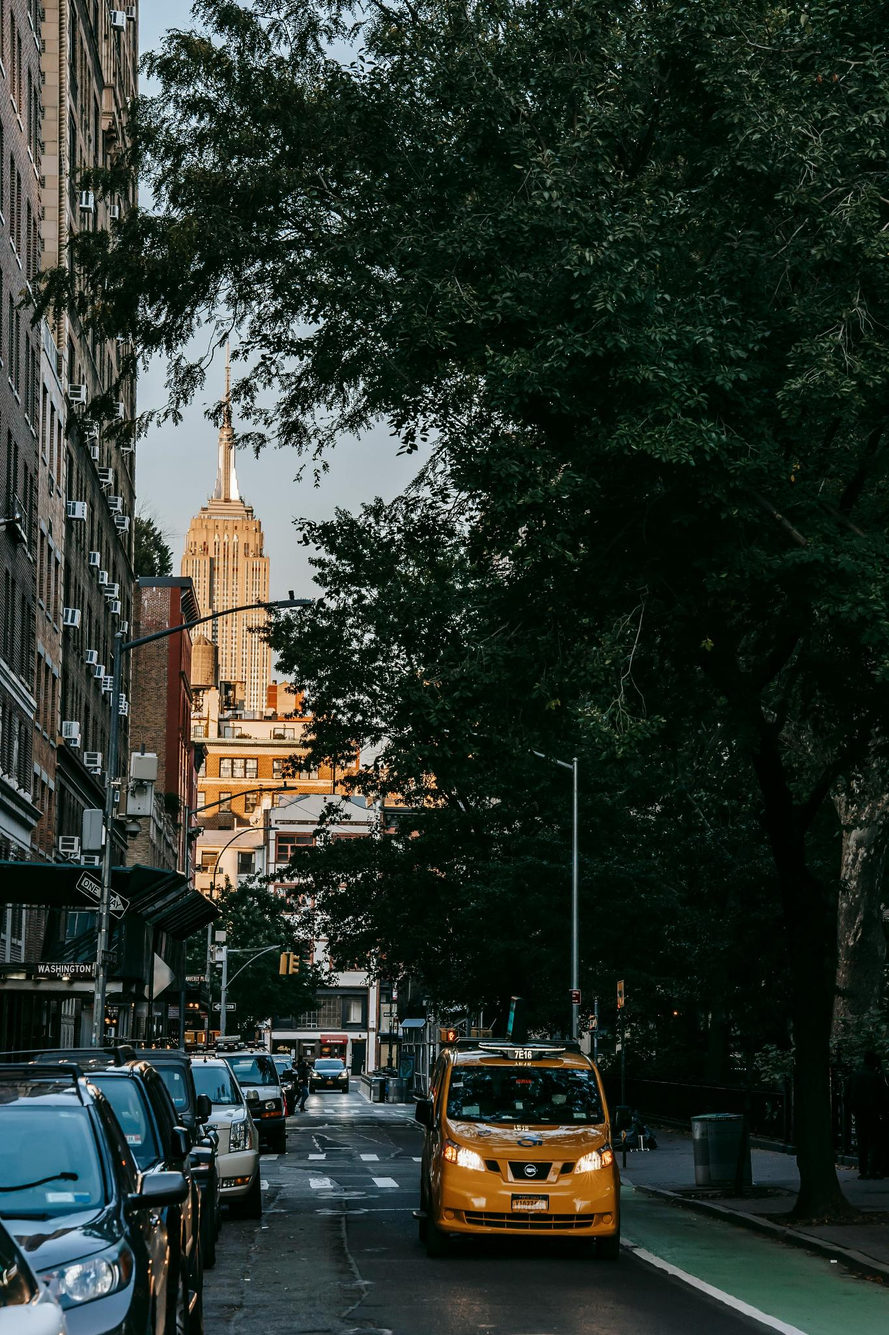car: (410, 1047, 619, 1263), (0, 1076, 139, 1332), (83, 1065, 224, 1275), (187, 1063, 263, 1220), (0, 1200, 70, 1330), (228, 1054, 288, 1155), (271, 1057, 300, 1117)
